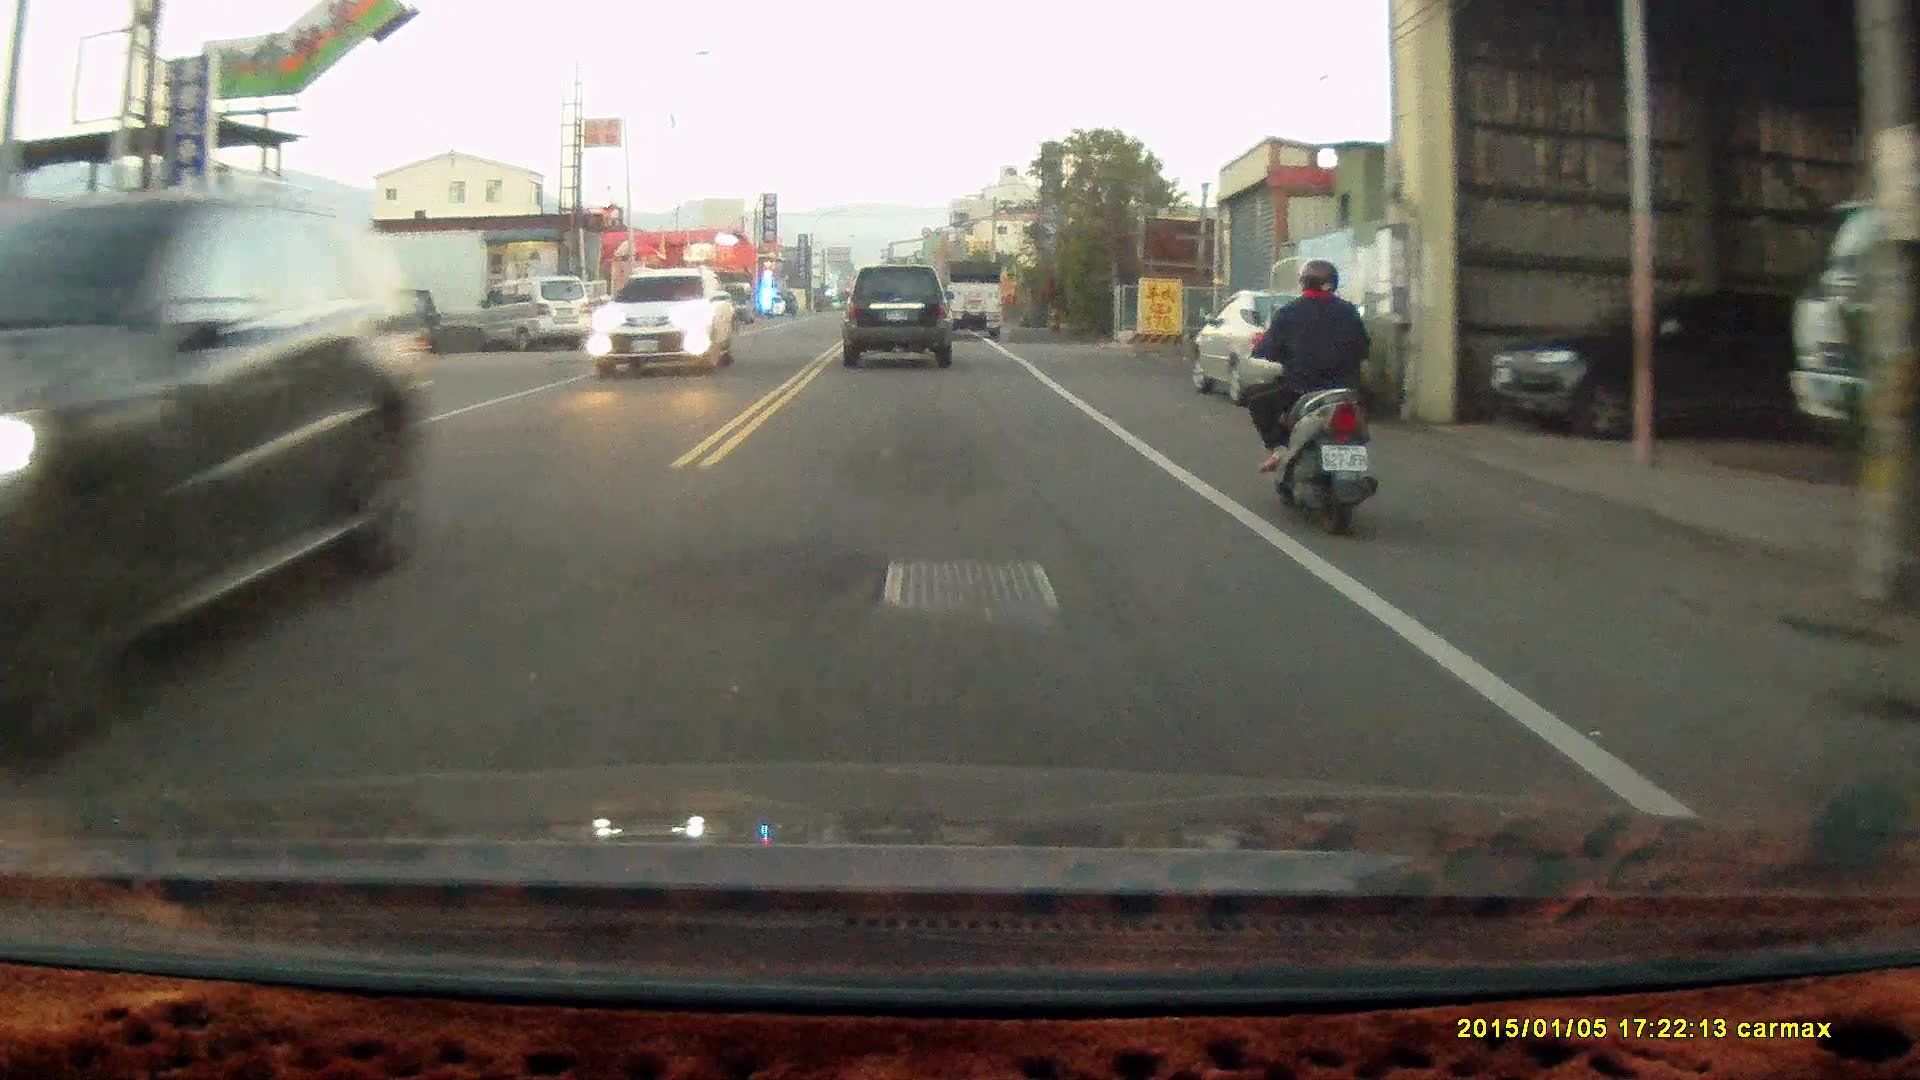rider: (1236, 256, 1379, 537)
vehicle: (1, 190, 436, 758), (1494, 294, 1821, 441), (1191, 280, 1388, 406), (588, 269, 740, 382), (843, 264, 956, 371), (481, 275, 589, 358), (937, 258, 1007, 340)
